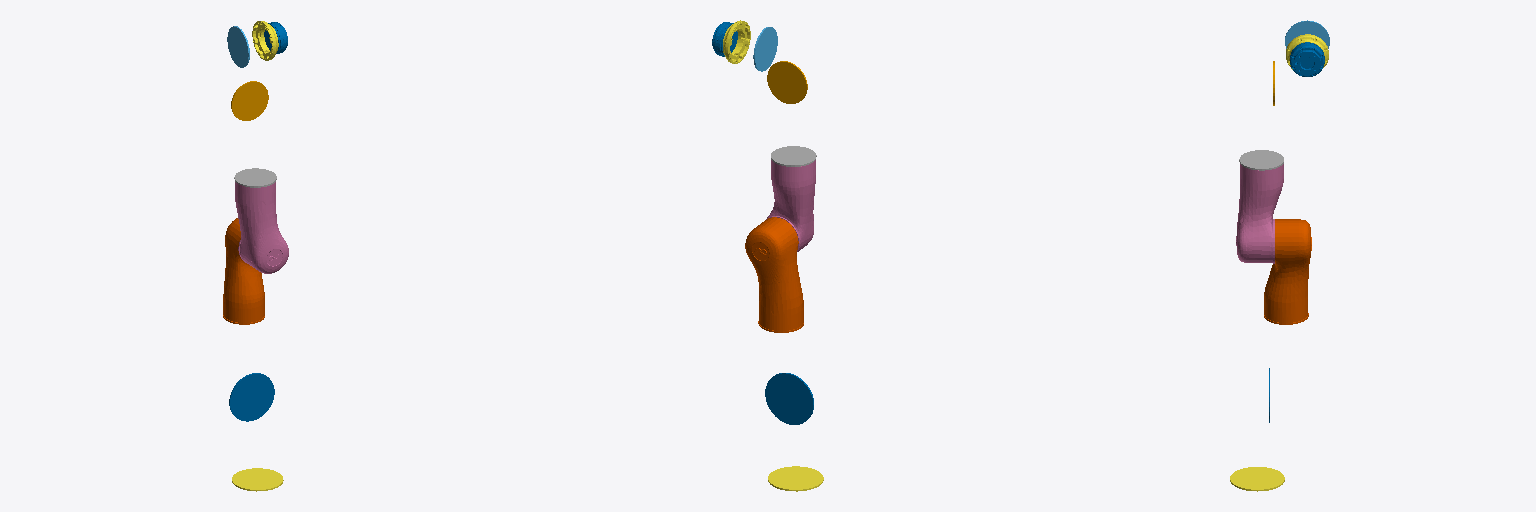
URDF robot description (Rizon4R_FT03):
<?xml version="1.0"?>
<robot name="Rizon4R_FT03">
  <joint name="arm_mount_joint" type="fixed">
    <origin rpy="0 0 0" xyz="0 0 0" />
    <parent link="world" />
    <child link="arm_adapter_base_link" />
  </joint>

  <!-- Arm Adapter -->
  <link name="arm_adapter_base_link">
    <inertial>
      <origin rpy="0 0 0" xyz="0 0 0" />
      <mass value="0" />
      <inertia ixx="0" ixy="0" ixz="0" iyy="0" iyz="0" izz="0" />
    </inertial>
  </link>

  <joint name="arm_adapter_joint" type="fixed">
    <origin rpy="0 0 0" xyz="0 0 0" />
    <parent link="arm_adapter_base_link" />
    <child link="base_link" />
  </joint>

  <!-- Rizon4R -->
  <joint name="joint1" type="revolute">
    <parent link="base_link" />
    <child link="link1" />
    <origin rpy="3.141592653589793 0.0 3.141592653589793" xyz="0.0 0.0 0.155" />
    <axis xyz="0 0 1" />
    <limit effort="123" lower="-2.8798" upper="2.8798" velocity="2.0944" />
    <safety_controller k_position="100.0" k_velocity="40.0" soft_lower_limit="-2.7925"
      soft_upper_limit="2.7925" />
  </joint>

  <joint name="joint2" type="revolute">
    <parent link="link1" />
    <child link="link2" />
    <origin rpy="0.0 0.0 3.141592653589793" xyz="0.0 0.03 -0.21" />
    <axis xyz="0 1 0" />
    <limit effort="123" lower="-2.3562" upper="2.3562" velocity="2.0944" />
    <safety_controller k_position="100.0" k_velocity="40.0" soft_lower_limit="-2.2689"
      soft_upper_limit="2.2689" />
  </joint>

  <joint name="joint3" type="revolute">
    <parent link="link2" />
    <child link="link3" />
    <origin rpy="0.0 0.0 3.141592653589793" xyz="0.0 -0.035 -0.205" />
    <axis xyz="0 0 1" />
    <limit effort="64" lower="-3.0543" upper="3.0543" velocity="2.4435" />
    <safety_controller k_position="100.0" k_velocity="40.0" soft_lower_limit="-2.9671"
      soft_upper_limit="2.9671" />
  </joint>

  <joint name="joint4" type="revolute">
    <parent link="link3" />
    <child link="link4" />
    <origin rpy="0.0 0.0 0.0" xyz="-0.02 -0.03 -0.19" />
    <axis xyz="0 1 0" />
    <limit effort="64" lower="-1.9548" upper="2.7751" velocity="2.4435" />
    <safety_controller k_position="100.0" k_velocity="40.0" soft_lower_limit="-1.8675"
      soft_upper_limit="2.6878" />
  </joint>

  <joint name="joint5" type="revolute">
    <parent link="link4" />
    <child link="link5" />
    <origin rpy="0.0 0.0 0.0" xyz="0.02 -0.025 -0.195" />
    <axis xyz="0 0 1" />
    <limit effort="39" lower="-3.0543" upper="3.0543" velocity="4.8869" />
    <safety_controller k_position="100.0" k_velocity="40.0" soft_lower_limit="-2.9671"
      soft_upper_limit="2.9671" />
  </joint>

  <joint name="joint6" type="revolute">
    <parent link="link5" />
    <child link="link6" />
    <origin rpy="0.0 0.0 3.141592653589793" xyz="0.0 0.03 -0.19" />
    <axis xyz="0 1 0" />
    <limit effort="39" lower="-1.4835" upper="4.6251" velocity="4.8869" />
    <safety_controller k_position="100.0" k_velocity="40.0" soft_lower_limit="-1.3963"
      soft_upper_limit="4.5379" />
  </joint>

  <joint name="joint7" type="revolute">
    <parent link="link6" />
    <child link="link7" />
    <origin rpy="0.0 -1.5707963267948966 0.0" xyz="0.015 -0.073 -0.11" />
    <axis xyz="0 0 1" />
    <limit effort="39" lower="-3.0543" upper="3.0543" velocity="4.8869" />
    <safety_controller k_position="100.0" k_velocity="40.0" soft_lower_limit="-2.9671"
      soft_upper_limit="2.9671" />
  </joint>

  <joint name="link7_to_flange" type="fixed">
    <parent link="link7" />
    <child link="wrist-sensor.base_link" />
    <origin rpy="3.141592653589793 0.0 0.0" xyz="0.0 0.0 -0.081" />
  </joint>

  <link name="world">
  </link>

  <link name="base_link">
    <inertial>
      <mass value="3.7" />
      <origin rpy="0 0 0" xyz="-0.0 0.0 0.09" />
      <inertia ixx="0.02" ixy="0.0" ixz="0.0" iyy="0.02" iyz="-0.0" izz="0.01" />
    </inertial>
    <visual name="shell">
      <origin xyz="0 0 0" rpy="0 0 3.141592653589793" />
      <geometry>
        <mesh filename="package://flexiv_description/meshes/Rizon4R/visual/link0.obj" />
      </geometry>
    </visual>
    <collision name="convex_mesh">
      <origin xyz="0 0 0" rpy="0 0 3.141592653589793" />
      <geometry>
        <mesh filename="package://flexiv_description/meshes/Rizon4R/collision/link0.stl" />
      </geometry>
    </collision>
    <workspace>
      <origin rpy="0 0 0" xyz="0 0 0.365" />
      <geometry>
        <sphere radius="0.890" />
      </geometry>
    </workspace>
  </link>

  <link name="link1">
    <inertial>
      <mass value="3.7" />
      <origin rpy="0 0 0" xyz="0.0 0.01 -0.15" />
      <inertia ixx="0.03" ixy="0.0" ixz="0.0" iyy="0.03" iyz="0.0" izz="0.01" />
    </inertial>
    <visual name="shell">
      <origin xyz="0 0 0" rpy="0 3.141592653589793 0" />
      <geometry>
        <mesh filename="package://flexiv_description/meshes/Rizon4R/visual/link1.obj" />
      </geometry>
    </visual>
    <visual name="ring">
      <origin rpy="0 0 0" xyz="0 0 -0.0025" />
      <geometry>
        <mesh filename="package://flexiv_description/meshes/Rizon4R/visual/ring.obj"
          scale="0.062 0.062 0.002" />
      </geometry>
    </visual>
    <collision name="convex_mesh">
      <origin xyz="0 0 0" rpy="0 3.141592653589793 0" />
      <geometry>
        <mesh filename="package://flexiv_description/meshes/Rizon4R/collision/link1.stl" />
      </geometry>
    </collision>
  </link>

  <link name="link2">
    <inertial>
      <mass value="2.7" />
      <origin rpy="0 0 0" xyz="0.0 -0.04 -0.1" />
      <inertia ixx="0.02" ixy="0.0" ixz="0.0" iyy="0.02" iyz="-0.0003" izz="0.004" />
    </inertial>
    <visual name="shell">
      <origin xyz="0 0 0" rpy="3.141592653589793 0 0" />
      <geometry>
        <mesh filename="package://flexiv_description/meshes/Rizon4R/visual/link2.obj" />
      </geometry>
    </visual>
    <visual name="ring">
      <origin rpy="1.5707963267948966 0 0" xyz="0 0.0025 0" />
      <geometry>
        <mesh filename="package://flexiv_description/meshes/Rizon4R/visual/ring.obj"
          scale="0.062 0.062 0.002" />
      </geometry>
    </visual>
    <collision name="convex_mesh">
      <origin xyz="0 0 0" rpy="3.141592653589793 0 0" />
      <geometry>
        <mesh filename="package://flexiv_description/meshes/Rizon4R/collision/link2.stl" />
      </geometry>
    </collision>
  </link>

  <link name="link3">
    <inertial>
      <mass value="2.4" />
      <origin rpy="0 0 0" xyz="-0.01 -0.0 -0.13" />
      <inertia ixx="0.01" ixy="0.0" ixz="0.001" iyy="0.01" iyz="0.0007" izz="0.004" />
    </inertial>
    <visual name="shell">
      <origin xyz="0 0 0" rpy="0 3.141592653589793 0" />
      <geometry>
        <mesh filename="package://flexiv_description/meshes/Rizon4R/visual/link3r.obj" />
      </geometry>
    </visual>
    <visual name="ring">
      <origin rpy="0 0 0" xyz="0 0 0.0025" />
      <geometry>
        <mesh filename="package://flexiv_description/meshes/Rizon4R/visual/ring.obj"
          scale="0.051 0.051 0.002" />
      </geometry>
    </visual>
    <collision name="convex_mesh">
      <origin xyz="0 0 0" rpy="0 3.141592653589793 0" />
      <geometry>
        <mesh filename="package://flexiv_description/meshes/Rizon4R/collision/link3r.stl" />
      </geometry>
    </collision>
  </link>

  <link name="link4">
    <inertial>
      <mass value="2.4" />
      <origin rpy="0 0 0" xyz="0.01 -0.03 -0.1" />
      <inertia ixx="0.02" ixy="0.0" ixz="-0.002" iyy="0.02" iyz="-0.001" izz="0.003" />
    </inertial>
    <visual name="shell">
      <origin xyz="0 0 0" rpy="3.141592653589793 0 0" />
      <geometry>
        <mesh filename="package://flexiv_description/meshes/Rizon4R/visual/link4r.obj" />
      </geometry>
    </visual>
    <visual name="ring">
      <origin rpy="1.5707963267948966 0 0" xyz="0 0.0025 0" />
      <geometry>
        <mesh filename="package://flexiv_description/meshes/Rizon4R/visual/ring.obj"
          scale="0.051 0.051 0.002" />
      </geometry>
    </visual>
    <collision name="convex_mesh">
      <origin xyz="0 0 0" rpy="3.141592653589793 0 0" />
      <geometry>
        <mesh filename="package://flexiv_description/meshes/Rizon4R/collision/link4r.stl" />
      </geometry>
    </collision>
  </link>

  <link name="link5">
    <inertial>
      <mass value="2.4" />
      <origin rpy="0 0 0" xyz="0.0 0.0 -0.13" />
      <inertia ixx="0.01" ixy="0.0" ixz="0.0" iyy="0.01" iyz="-0.001" izz="0.004" />
    </inertial>
    <visual name="shell">
      <origin xyz="0 0 0" rpy="0 3.141592653589793 0" />
      <geometry>
        <mesh filename="package://flexiv_description/meshes/Rizon4R/visual/link5.obj" />
      </geometry>
    </visual>
    <visual name="ring">
      <origin rpy="0 0 0" xyz="0 0 0.0025" />
      <geometry>
        <mesh filename="package://flexiv_description/meshes/Rizon4R/visual/ring.obj"
          scale="0.051 0.051 0.002" />
      </geometry>
    </visual>
    <collision name="convex_mesh">
      <origin xyz="0 0 0" rpy="0 3.141592653589793 0" />
      <geometry>
        <mesh filename="package://flexiv_description/meshes/Rizon4R/collision/link5.stl" />
      </geometry>
    </collision>
  </link>

  <link name="link6">
    <inertial>
      <mass value="2.2" />
      <origin rpy="0 0 0" xyz="-0.02 -0.06 -0.07" />
      <inertia ixx="0.01" ixy="0.0" ixz="-0.001" iyy="0.01" iyz="0.002" izz="0.004" />
    </inertial>
    <visual name="shell">
      <origin xyz="0 0 0" rpy="0 3.141592653589793 0" />
      <geometry>
        <mesh filename="package://flexiv_description/meshes/Rizon4R/visual/link6r.obj" />
      </geometry>
    </visual>
    <visual name="ring">
      <origin rpy="1.5707963267948966 0 0" xyz="0 0.0025 0" />
      <geometry>
        <mesh filename="package://flexiv_description/meshes/Rizon4R/visual/ring.obj"
          scale="0.051 0.051 0.002" />
      </geometry>
    </visual>
    <collision name="convex_mesh">
      <origin xyz="0 0 0" rpy="0 3.141592653589793 0" />
      <geometry>
        <mesh filename="package://flexiv_description/meshes/Rizon4R/collision/link6r.stl" />
      </geometry>
    </collision>
  </link>

  <link name="link7">
    <inertial>
      <mass value="0.8" />
      <origin rpy="0 0 0" xyz="0.0 -0.0 0.03" />
      <inertia ixx="0.001" ixy="0.0" ixz="0.0" iyy="0.001" iyz="0.0" izz="0.001" />
    </inertial>
    <visual name="shell">
      <origin xyz="0 0 0" rpy="3.141592653589793 0 0" />
      <geometry>
        <mesh filename="package://flexiv_description/meshes/Rizon4R/visual/link7.obj" />
      </geometry>
    </visual>
    <visual name="ring">
      <origin rpy="0 0 0" xyz="0 0 0.0025" />
      <geometry>
        <mesh filename="package://flexiv_description/meshes/Rizon4R/visual/ring.obj"
          scale="0.051 0.051 0.002" />
      </geometry>
    </visual>
    <collision name="convex_mesh">
      <origin xyz="0 0 0" rpy="3.141592653589793 0 0" />
      <geometry>
        <mesh filename="package://flexiv_description/meshes/Rizon4R/collision/link7.stl" />
      </geometry>
    </collision>
  </link>

  <!-- FT03-D1 wrist sensor -->
  <joint name="wrist-sensor.remove_A02L_flange_body" type="fixed">
    <origin rpy="0 0 0" xyz="0 0 -0.016" />
    <parent link="wrist-sensor.base_link" />
    <child link="wrist-sensor.proximal_link" />
    <axis xyz="0 0 1" />
  </joint>

  <joint name="wrist-sensor.proximal_link_to_sensing_frame" type="fixed">
    <origin rpy="0 0 0" xyz="0 0 0.0235" />
    <parent link="wrist-sensor.proximal_link" />
    <child link="wrist-sensor.distal_link" />
    <axis xyz="0 0 1" />
  </joint>

  <joint name="wrist-sensor.sensing_frame_to_flange" type="fixed">
    <parent link="wrist-sensor.distal_link" />
    <child link="flange" />
    <origin rpy="0 0 0" xyz="0.0 0.0 0.0285" />
  </joint>

  <link name="wrist-sensor.base_link">
    <inertial>
      <mass value="0.0" />
      <origin rpy="0 0 0" xyz="0.0 0.0 0.0" />
      <inertia ixx="0.0" ixy="0.0" ixz="0.0" iyy="0.0" iyz="0.0" izz="0.0" />
    </inertial>
  </link>

  <link name="wrist-sensor.proximal_link">
    <inertial>
      <origin rpy="0 0 0" xyz="0 0 0.01955" />
      <mass value="0.149" />
      <inertia ixx="0.0" ixy="0.0" ixz="0.0" iyy="0.0" iyz="0.0" izz="0.0" />
    </inertial>
    <visual name="shell">
      <origin rpy="0 0 0" xyz="0 0 0" />
      <geometry>
        <mesh filename="package://flexiv_description/meshes/FT03-D1/visual/proximal.obj"
          scale="1 1 1" />
      </geometry>
    </visual>
    <collision name="convex_mesh">
      <origin xyz="0 0 0" rpy="0 0 0" />
      <geometry>
        <mesh filename="package://flexiv_description/meshes/FT03-D1/collision/proximal.stl" />
      </geometry>
    </collision>
  </link>

  <link name="wrist-sensor.distal_link">
    <inertial>
      <mass value="0.249" />
      <origin rpy="0 0 0" xyz="0 0 0.0085" />
      <inertia ixx="1.05E-4" ixy="0" ixz="0" iyy="1.05E-4" iyz="-0" izz="1.81E-4" />
    </inertial>
    <visual name="shell">
      <origin rpy="0 0 0" xyz="0 0 0" />
      <geometry>
        <mesh filename="package://flexiv_description/meshes/FT03-D1/visual/distal.obj" />
      </geometry>
    </visual>
    <visual name="ring">
      <origin rpy="0 0 0" xyz="0 0 0" />
      <geometry>
        <mesh filename="package://flexiv_description/meshes/FT03-D1/visual/ring.obj"
          scale="0.039 0.039 0.002" />
      </geometry>
    </visual>
    <collision name="convex_mesh">
      <origin xyz="0 0 0" rpy="0 0 0" />
      <geometry>
        <mesh filename="package://flexiv_description/meshes/FT03-D1/collision/distal.stl" />
      </geometry>
    </collision>
  </link>

  <link name="flange">
    <inertial>
      <mass value="0.0" />
      <origin rpy="0 0 0" xyz="0.0 0.0 0.0" />
      <inertia ixx="0.0" ixy="0.0" ixz="0.0" iyy="0.0" iyz="0.0" izz="0.0" />
    </inertial>
  </link>

</robot>

--- Render facts (derived) ---
The picture shows the robot from 3 angles, left to right: view 1: azimuth 30°, elevation 25°; view 2: azimuth 150°, elevation 25°; view 3: azimuth 270°, elevation 25°; orthographic projection.
Model Rizon4R_FT03 with 14 links and 13 joints (7 revolute, 6 fixed), rooted at world, posed all joints at 0.
Links seen in each view (by area): view 1: link4, link3, link2, link6, link1, wrist-sensor.proximal_link, link7, link5; view 2: link3, link4, link2, link6, link1, wrist-sensor.proximal_link, link7, link5; view 3: link3, link4, link1, wrist-sensor.distal_link, link5, link7.
Link boxes in pixels (<box>): link4: <box>235,182,288,273</box>; link3: <box>223,218,264,324</box>; link2: <box>229,373,274,421</box>; link6: <box>231,81,268,120</box>; link1: <box>232,468,283,491</box>; wrist-sensor.proximal_link: <box>252,21,278,60</box>; link7: <box>227,26,249,67</box>; link5: <box>234,168,276,187</box>; link3: <box>745,217,803,332</box>; link4: <box>766,160,815,251</box>; link2: <box>765,373,813,424</box>; link6: <box>767,61,807,103</box>; link1: <box>768,466,823,491</box>; wrist-sensor.proximal_link: <box>723,20,750,63</box>; link7: <box>753,27,777,71</box>; link5: <box>771,146,816,166</box>; link3: <box>1264,219,1311,324</box>; link4: <box>1236,164,1283,263</box>; link1: <box>1230,467,1284,491</box>; wrist-sensor.distal_link: <box>1290,42,1324,76</box>; link5: <box>1239,150,1283,170</box>; link7: <box>1285,20,1329,48</box>.
Size in the robot's own frame: 0.194 by 0.226 by 1.15 metres.
12 mesh visuals loaded from 12 distinct referenced files (5 OBJ); not drawn: 6 (reference not matched to a file when rendering).
